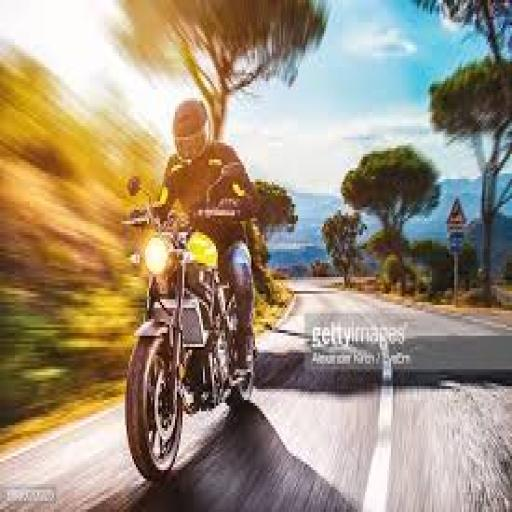helmet: (121, 182, 257, 481), (145, 95, 268, 395), (170, 95, 210, 160)
